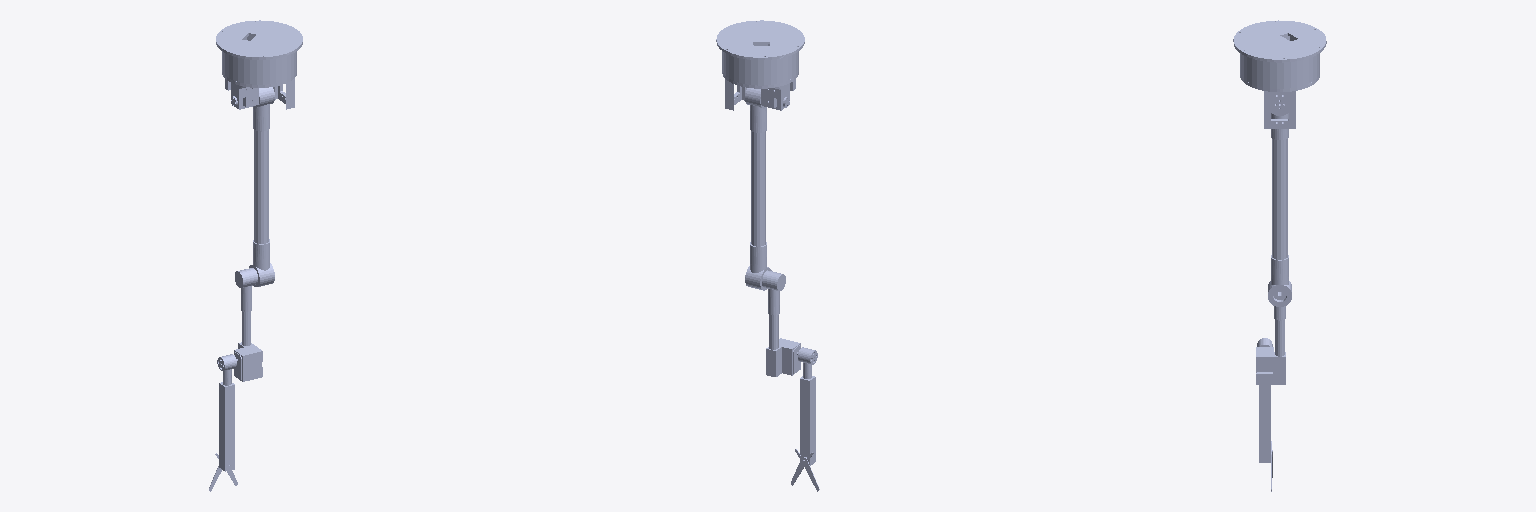
URDF robot description (robo_arm_urdf4):
<?xml version="1.0" encoding="utf-8" ?>
<!-- This URDF was automatically created by SolidWorks to URDF Exporter! Originally created by [author] ([email redacted]) 
     Commit Version: 1.6.0-1-g15f4949  Build Version: 1.6.7594.29634
     For more information, please see http://wiki.ros.org/sw_urdf_exporter -->
<robot name="robo_arm_urdf4">
    <link name="dummy_link"/>
        <joint name="dummy_joint" type="fixed">
		<parent link="dummy_link"/>
		<child link="base_link"/>
	</joint>
    <link name="base_link">
        <inertial>
            <origin xyz="-0.001234 0.0017265 -0.017375" rpy="0 0 0" />
            <mass value="0.19754" />
            <inertia ixx="0.00033938" ixy="6.6574E-06" ixz="-1.9578E-06" iyy="0.00033483" iyz="2.7391E-06" izz="0.00056222" />
        </inertial>
        <visual>
            <origin xyz="0 0 0" rpy="0 0 0" />
            <geometry>
                <mesh filename="package://robo_arm_urdf4/meshes/base_link.STL" />
            </geometry>
            <material name="">
                <color rgba="0.79216 0.81961 0.93333 1" />
            </material>
        </visual>
        <collision>
            <origin xyz="0 0 0" rpy="0 0 0" />
            <geometry>
                <mesh filename="package://robo_arm_urdf4/meshes/base_link.STL" />
            </geometry>
        </collision>
    </link>
    <link name="Link_01">
        <inertial>
            <origin xyz="-0.0095442 -9.0123E-05 -0.020686" rpy="0 0 0" />
            <mass value="0.19242" />
            <inertia ixx="0.00016824" ixy="4.3114E-08" ixz="2.0053E-05" iyy="0.0002582" iyz="2.1201E-07" izz="0.00030936" />
        </inertial>
        <visual>
            <origin xyz="0 0 0" rpy="0 0 0" />
            <geometry>
                <mesh filename="package://robo_arm_urdf4/meshes/Link_01.STL" />
            </geometry>
            <material name="">
                <color rgba="0.79216 0.81961 0.93333 1" />
            </material>
        </visual>
        <collision>
            <origin xyz="0 0 0" rpy="0 0 0" />
            <geometry>
                <mesh filename="package://robo_arm_urdf4/meshes/Link_01.STL" />
            </geometry>
        </collision>
    </link>
    <joint name="Joint_01" type="revolute">
        <origin xyz="-0.00029087 0.00040696 -0.0565" rpy="0 0 0" />
        <parent link="base_link" />
        <child link="Link_01" />
        <axis xyz="0 0 -1" />
        <limit lower="-0.7853" upper="0.7853" effort="0" velocity="0" />
    </joint>
    <link name="Link_02">
        <inertial>
            <origin xyz="0.00406710067986559 -1.25742150941521E-07 -0.165793104218464" rpy="0 0 0" />
            <mass value="0.233805315550193" />
            <inertia ixx="0.00115358594090977" ixy="9.32570448815284E-12" ixz="8.1052207481249E-12" iyy="0.00115093500684253" iyz="-8.58395909293466E-11" izz="2.72590027174582E-05" />
        </inertial>
        <visual>
            <origin xyz="0 0 0" rpy="0 0 0" />
            <geometry>
                <mesh filename="package://robo_arm_urdf4/meshes/Link_02.STL" />
            </geometry>
            <material name="">
                <color rgba="0.792156862745098 0.819607843137255 0.933333333333333 1" />
            </material>
        </visual>
        <collision>
            <origin xyz="0 0 0" rpy="0 0 0" />
            <geometry>
                <mesh filename="package://robo_arm_urdf4/meshes/Link_02.STL" />
            </geometry>
        </collision>
    </link>
    <joint name="Joint_02" type="revolute">
        <origin xyz="0 0 -0.05" rpy="0 0 0" />
        <parent link="Link_01" />
        <child link="Link_02" />
        <axis xyz="-1 0 0" />
        <limit lower="-1.5707" upper="0.7853" effort="0" velocity="0" />
    </joint>
    <link name="Link_03">
        <inertial>
            <origin xyz="-0.00193719364445834 -0.0106786296222738 -0.104570554025489" rpy="0 0 0" />
            <mass value="0.119016978657336" />
            <inertia ixx="8.8606704844771E-05" ixy="-6.43610531486739E-07" ixz="2.13787471586181E-07" iyy="8.57824449068576E-05" iyz="7.90620534048172E-07" izz="1.80805915809406E-05" />
        </inertial>
        <visual>
            <origin xyz="0 0 0" rpy="0 0 0" />
            <geometry>
                <mesh filename="package://robo_arm_urdf4/meshes/Link_03.STL" />
            </geometry>
            <material name="">
                <color rgba="0.792156862745098 0.819607843137255 0.933333333333333 1" />
            </material>
        </visual>
        <collision>
            <origin xyz="0 0 0" rpy="0 0 0" />
            <geometry>
                <mesh filename="package://robo_arm_urdf4/meshes/Link_03.STL" />
            </geometry>
        </collision>
    </link>
    <joint name="Joint_03" type="revolute">
        <origin xyz="-0.029361 0 -0.3395" rpy="0 0 0" />
        <parent link="Link_02" />
        <child link="Link_03" />
        <axis xyz="1 0 0" />
        <limit lower="-1.5707" upper="4.7122" effort="0" velocity="0" />
    </joint>
    <link name="Link_04">
        <inertial>
            <origin xyz="-0.0039991 1.843E-09 -0.099883" rpy="0 0 0" />
            <mass value="0.077329" />
            <inertia ixx="0.00013808" ixy="5.0609E-13" ixz="-2.4719E-08" iyy="0.00013821" iyz="2.3021E-12" izz="5.3752E-06" />
        </inertial>
        <visual>
            <origin xyz="0 0 0" rpy="0 0 0" />
            <geometry>
                <mesh filename="package://robo_arm_urdf4/meshes/Link_04.STL" />
            </geometry>
            <material name="">
                <color rgba="0.79216 0.81961 0.93333 1" />
            </material>
        </visual>
        <collision>
            <origin xyz="0 0 0" rpy="0 0 0" />
            <geometry>
                <mesh filename="package://robo_arm_urdf4/meshes/Link_04.STL" />
            </geometry>
        </collision>
    </link>
    <joint name="Joint_04" type="revolute">
        <origin xyz="-0.044525 -0.0244 -0.13825" rpy="0 0 0" />
        <parent link="Link_03" />
        <child link="Link_04" />
        <axis xyz="-1 0 0" />
        <limit lower="-3.1415" upper="0.7853" effort="0" velocity="0" />
    </joint>
    <link name="Link_05">
        <inertial>
            <origin xyz="0.0074504 0.0106 -0.016984" rpy="0 0 0" />
            <mass value="0.00079108" />
            <inertia ixx="2.5616E-07" ixy="-5.294E-23" ixz="1.3918E-07" iyy="3.4136E-07" iyz="9.8063E-23" izz="8.5391E-08" />
        </inertial>
        <visual>
            <origin xyz="0 0 0" rpy="0 0 0" />
            <geometry>
                <mesh filename="package://robo_arm_urdf4/meshes/Link_05.STL" />
            </geometry>
            <material name="">
                <color rgba="0.79216 0.81961 0.93333 1" />
            </material>
        </visual>
        <collision>
            <origin xyz="0 0 0" rpy="0 0 0" />
            <geometry>
                <mesh filename="package://robo_arm_urdf4/meshes/Link_05.STL" />
            </geometry>
        </collision>
    </link>
    <joint name="Joint_05" type="revolute">
        <origin xyz="-0.004047 0 -0.19" rpy="0 0 0" />
        <parent link="Link_04" />
        <child link="Link_05" />
        <axis xyz="0 -1 0" />
        <limit lower="-0.7853" upper="0.7853" effort="0" velocity="0" />
    </joint>
    <link name="Link_06">
        <inertial>
            <origin xyz="-0.00836567126851764 0.0118000000000013 -0.0165524569597318" rpy="0 0 0" />
            <mass value="0.000791081448465944" />
            <inertia ixx="2.40493388879079E-07" ixy="-1.98523347012727E-23" ixz="-1.47657102727831E-07" iyy="3.41363015623232E-07" iyz="-3.42856396095203E-23" izz="1.01059486291785E-07" />
        </inertial>
        <visual>
            <origin xyz="0 0 0" rpy="0 0 0" />
            <geometry>
                <mesh filename="package://robo_arm_urdf4/meshes/Link_06.STL" />
            </geometry>
            <material name="">
                <color rgba="0.792156862745098 0.819607843137255 0.933333333333333 1" />
            </material>
        </visual>
        <collision>
            <origin xyz="0 0 0" rpy="0 0 0" />
            <geometry>
                <mesh filename="package://robo_arm_urdf4/meshes/Link_06.STL" />
            </geometry>
        </collision>
    </link>
    <joint name="Joint_06" type="revolute">
        <origin xyz="-0.004047 0 -0.19" rpy="0 0 0" />
        <parent link="Link_04" />
        <child link="Link_06" />
        <axis xyz="0 1 0" />
        <limit lower="-0.7853" upper="0.7853" effort="0" velocity="0" />
    </joint>
    <transmission name="trans_Joint_01">
        <type>transmission_interface/SimpleTransmission</type>
        <joint name="Joint_01">
            <hardwareInterface>hardware_interface/PositionJointInterface</hardwareInterface>
        </joint>
        <actuator name="Joint_01_motor">
            <hardwareInterface>hardware_interface/PositionJointInterface</hardwareInterface>
            <mechanicalReduction>1</mechanicalReduction>
        </actuator>
    </transmission>
    <transmission name="trans_Joint_02">
        <type>transmission_interface/SimpleTransmission</type>
        <joint name="Joint_02">
            <hardwareInterface>hardware_interface/PositionJointInterface</hardwareInterface>
        </joint>
        <actuator name="Joint_02_motor">
            <hardwareInterface>hardware_interface/PositionJointInterface</hardwareInterface>
            <mechanicalReduction>1</mechanicalReduction>
        </actuator>
    </transmission>
    <transmission name="trans_Joint_03">
        <type>transmission_interface/SimpleTransmission</type>
        <joint name="Joint_03">
            <hardwareInterface>hardware_interface/PositionJointInterface</hardwareInterface>
        </joint>
        <actuator name="Joint_03_motor">
            <hardwareInterface>hardware_interface/PositionJointInterface</hardwareInterface>
            <mechanicalReduction>1</mechanicalReduction>
        </actuator>
    </transmission>
    <transmission name="trans_Joint_04">
        <type>transmission_interface/SimpleTransmission</type>
        <joint name="Joint_04">
            <hardwareInterface>hardware_interface/PositionJointInterface</hardwareInterface>
        </joint>
        <actuator name="Joint_04_motor">
            <hardwareInterface>hardware_interface/PositionJointInterface</hardwareInterface>
            <mechanicalReduction>1</mechanicalReduction>
        </actuator>
    </transmission>
    <transmission name="trans_Joint_05">
        <type>transmission_interface/SimpleTransmission</type>
        <joint name="Joint_05">
            <hardwareInterface>hardware_interface/PositionJointInterface</hardwareInterface>
        </joint>
        <actuator name="Joint_05_motor">
            <hardwareInterface>hardware_interface/PositionJointInterface</hardwareInterface>
            <mechanicalReduction>1</mechanicalReduction>
        </actuator>
    </transmission>
    <transmission name="trans_Joint_06">
        <type>transmission_interface/SimpleTransmission</type>
        <joint name="Joint_06">
            <hardwareInterface>hardware_interface/PositionJointInterface</hardwareInterface>
        </joint>
        <actuator name="Joint_06_motor">
            <hardwareInterface>hardware_interface/PositionJointInterface</hardwareInterface>
            <mechanicalReduction>1</mechanicalReduction>
        </actuator>
    </transmission>
    <gazebo>
        <plugin name="gazebo_ros_control">
            <robotNamespace>/</robotNamespace>
        </plugin>
    </gazebo>
</robot>

--- Facts derived from the render (not from the file) ---
Views: 3 orthographic renders of the robot side by side, from view 1: azimuth 30°, elevation 25°; view 2: azimuth 150°, elevation 25°; view 3: azimuth 270°, elevation 25°.
Model robo_arm_urdf4 with 8 links and 7 joints (6 revolute, 1 fixed), rooted at dummy_link, posed all joints at 0.
Visible links, largest first — view 1: base_link, Link_02, Link_03, Link_04, Link_01; view 2: base_link, Link_02, Link_03, Link_04, Link_01; view 3: base_link, Link_02, Link_03, Link_01, Link_04.
Boxes of the visible links, <box> form: base_link: <box>216,20,302,84</box>; Link_02: <box>249,87,274,286</box>; Link_03: <box>234,268,262,381</box>; Link_04: <box>217,354,236,471</box>; Link_01: <box>222,72,296,109</box>; base_link: <box>716,20,804,85</box>; Link_02: <box>745,88,771,290</box>; Link_03: <box>762,270,800,376</box>; Link_04: <box>798,347,817,465</box>; Link_01: <box>722,71,798,110</box>; base_link: <box>1233,20,1326,88</box>; Link_02: <box>1268,98,1291,306</box>; Link_03: <box>1256,306,1285,384</box>; Link_01: <box>1240,75,1319,128</box>; Link_04: <box>1257,338,1272,462</box>.
Size in the robot's own frame: 0.1826 by 0.1499 by 0.8277 metres.
7 mesh visuals loaded from 7 distinct referenced files (7 binary STL).